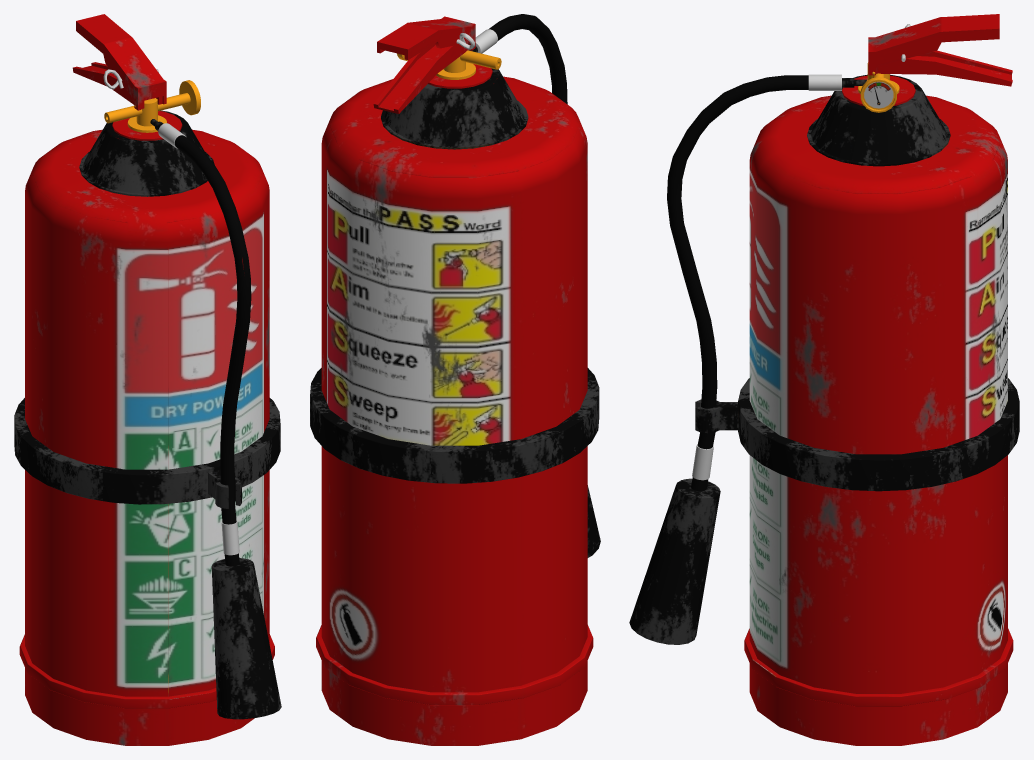
File: MediumFireExtinguisher.fbx
3 views of the same model, side by side, from view 1: azimuth 30°, elevation 25°; view 2: azimuth 150°, elevation 25°; view 3: azimuth 270°, elevation 25° (orthographic). The views are drawn at different scales.
Parts seen in each view (by area): view 1: Medium - GameReady; view 2: Medium - GameReady; view 3: Medium - GameReady.
Boxes of the visible parts, x1,y1,x2,y2 form: Medium - GameReady: [14, 14, 281, 745]; Medium - GameReady: [310, 14, 600, 745]; Medium - GameReady: [629, 14, 1019, 745].
Bounding box in the file's own units: 32.4 × 23.38 × 61.45.
